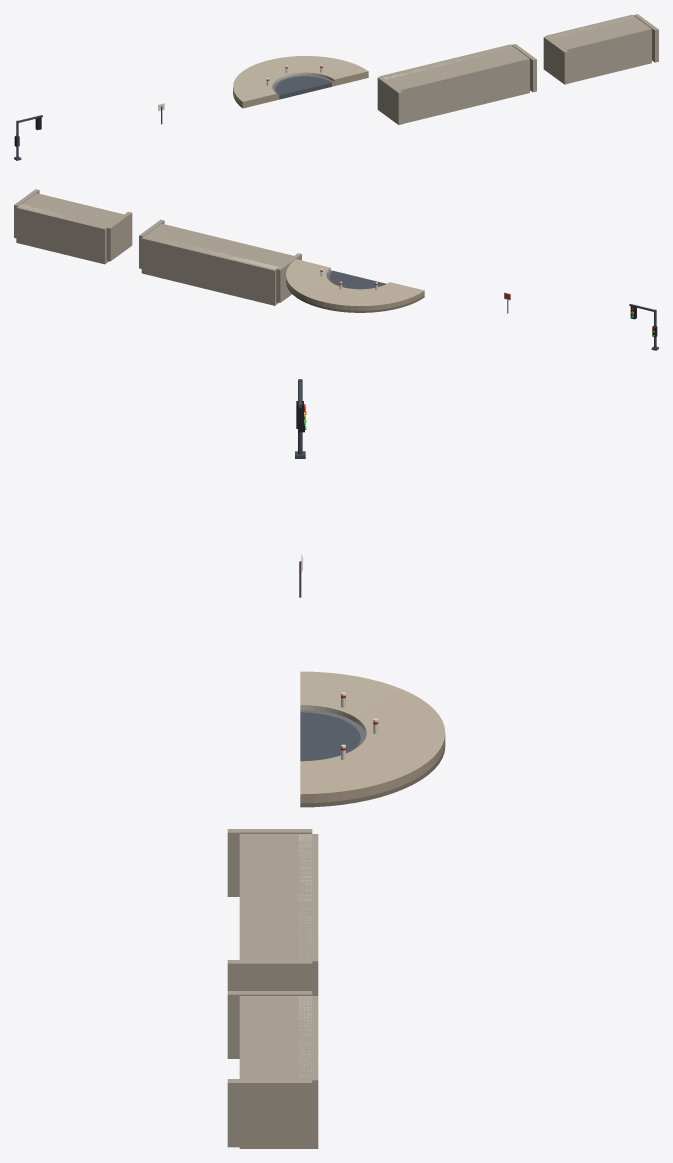
Rendered from rkit_r3_parts_isolated.glb.
3 renders of one model, top to bottom at view 1: azimuth 30°, elevation 25°; view 2: azimuth 150°, elevation 25°; view 3: azimuth 270°, elevation 25°, orthographic. The views are drawn at different scales.
Parts seen in each view (by area): view 1: PART_abutment_TOWN_1_1, PART_abutment_COUNTRY_1_1, PART_end_cap_TOWN_1_1, PART_signal_mast; view 2: PART_abutment_TOWN_1_1, PART_abutment_COUNTRY_1_1, PART_end_cap_TOWN_1_1, PART_signal_mast; view 3: PART_end_cap_TOWN_1_1, PART_abutment_COUNTRY_1_1, PART_abutment_TOWN_1_1.
Boxes of the visible parts, x1,y1,x2,y2 form: PART_abutment_TOWN_1_1: (377,44,536,124); PART_abutment_COUNTRY_1_1: (543,14,658,84); PART_end_cap_TOWN_1_1: (233,56,368,108); PART_signal_mast: (14,115,42,160); PART_abutment_TOWN_1_1: (139,219,301,305); PART_abutment_COUNTRY_1_1: (14,189,132,264); PART_end_cap_TOWN_1_1: (286,259,424,312); PART_signal_mast: (629,304,658,350); PART_end_cap_TOWN_1_1: (300,671,445,807); PART_abutment_COUNTRY_1_1: (227,991,318,1148); PART_abutment_TOWN_1_1: (227,829,318,995).
Size of the model in its own units: 95.55 by 12 by 14.4.
